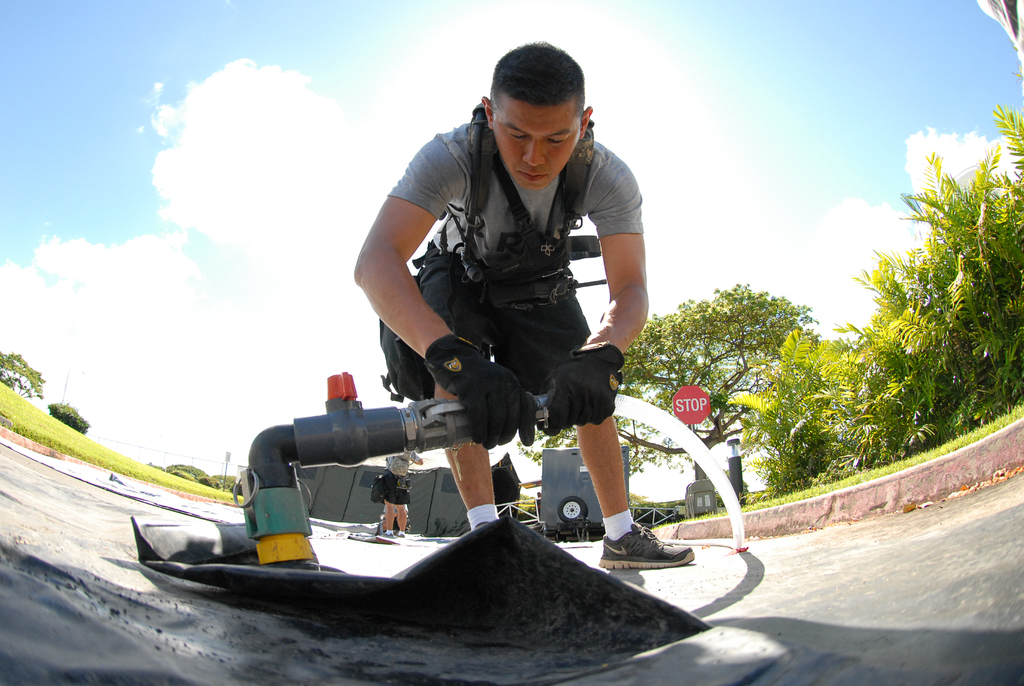Person: (353, 40, 694, 568)
